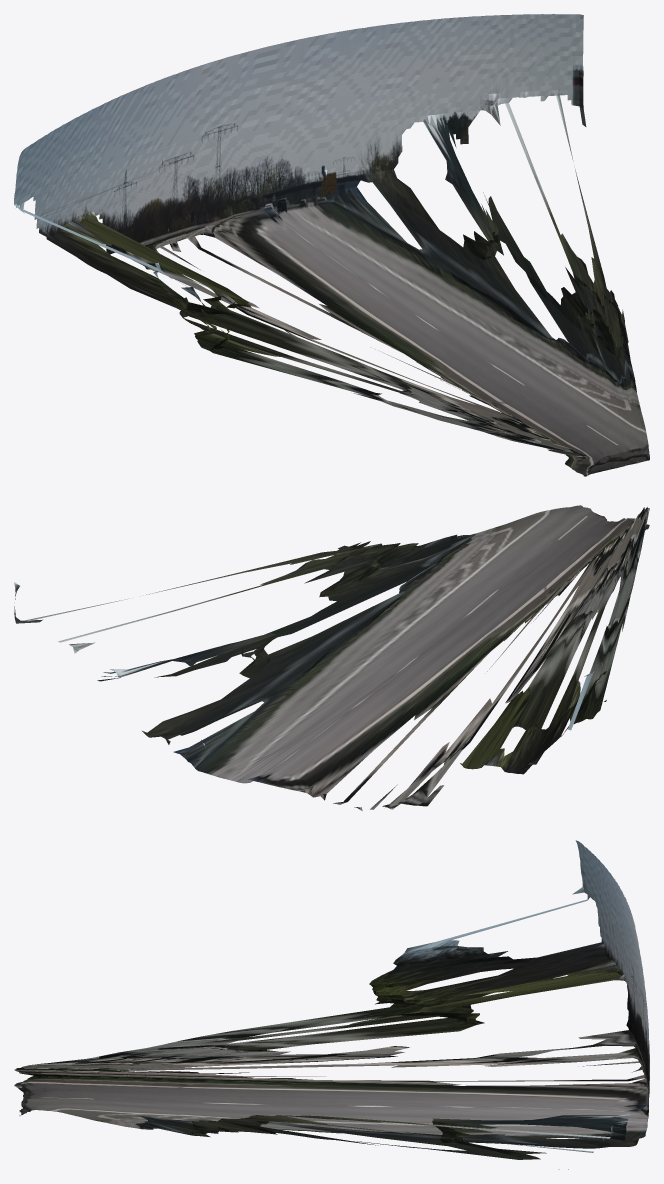
3 views of the same model, one above another, from view 1: azimuth 30°, elevation 25°; view 2: azimuth 150°, elevation 25°; view 3: azimuth 270°, elevation 25° (orthographic). The views are drawn at different scales.
Parts seen in each view (by area): view 1: defaultobject; view 2: defaultobject; view 3: defaultobject.
Boxes of the visible parts, <box> form: defaultobject: <box>14,14,649,476</box>; defaultobject: <box>14,505,649,811</box>; defaultobject: <box>14,840,649,1169</box>.
Size of the model in its own units: 40.94 by 12.42 by 44.53.
Materials: 1 (1 with a texture image).
